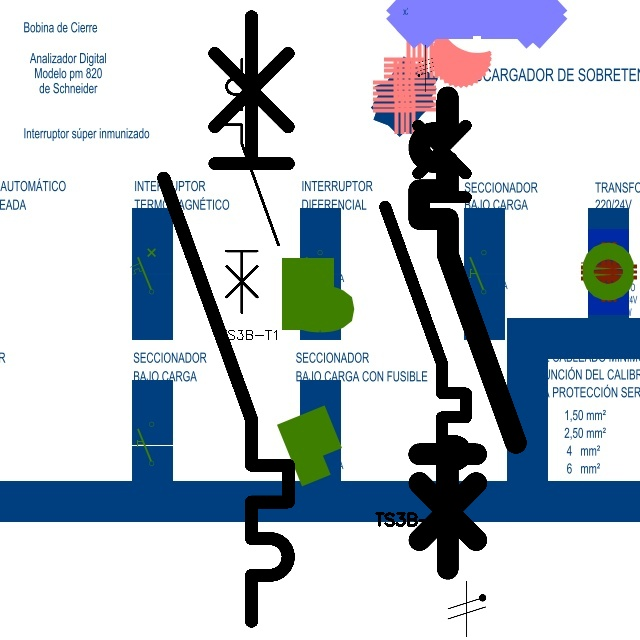interruptor_termomagnetico: (148, 1, 304, 637), (407, 85, 528, 581), (375, 91, 476, 504), (220, 53, 285, 319)
